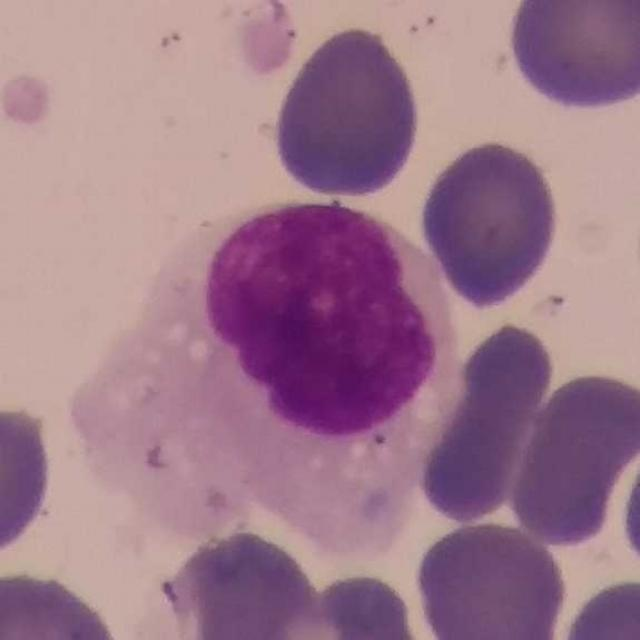Monocyte: (73, 196, 471, 540)
Platelets: (237, 9, 306, 74), (0, 69, 56, 131)
RBC: (409, 317, 556, 528), (266, 20, 426, 203), (414, 134, 565, 312), (503, 366, 640, 551), (147, 523, 336, 640), (411, 516, 572, 640), (501, 0, 640, 116), (244, 567, 435, 640), (0, 395, 61, 571), (0, 562, 131, 640), (553, 573, 640, 640), (614, 467, 640, 566)
